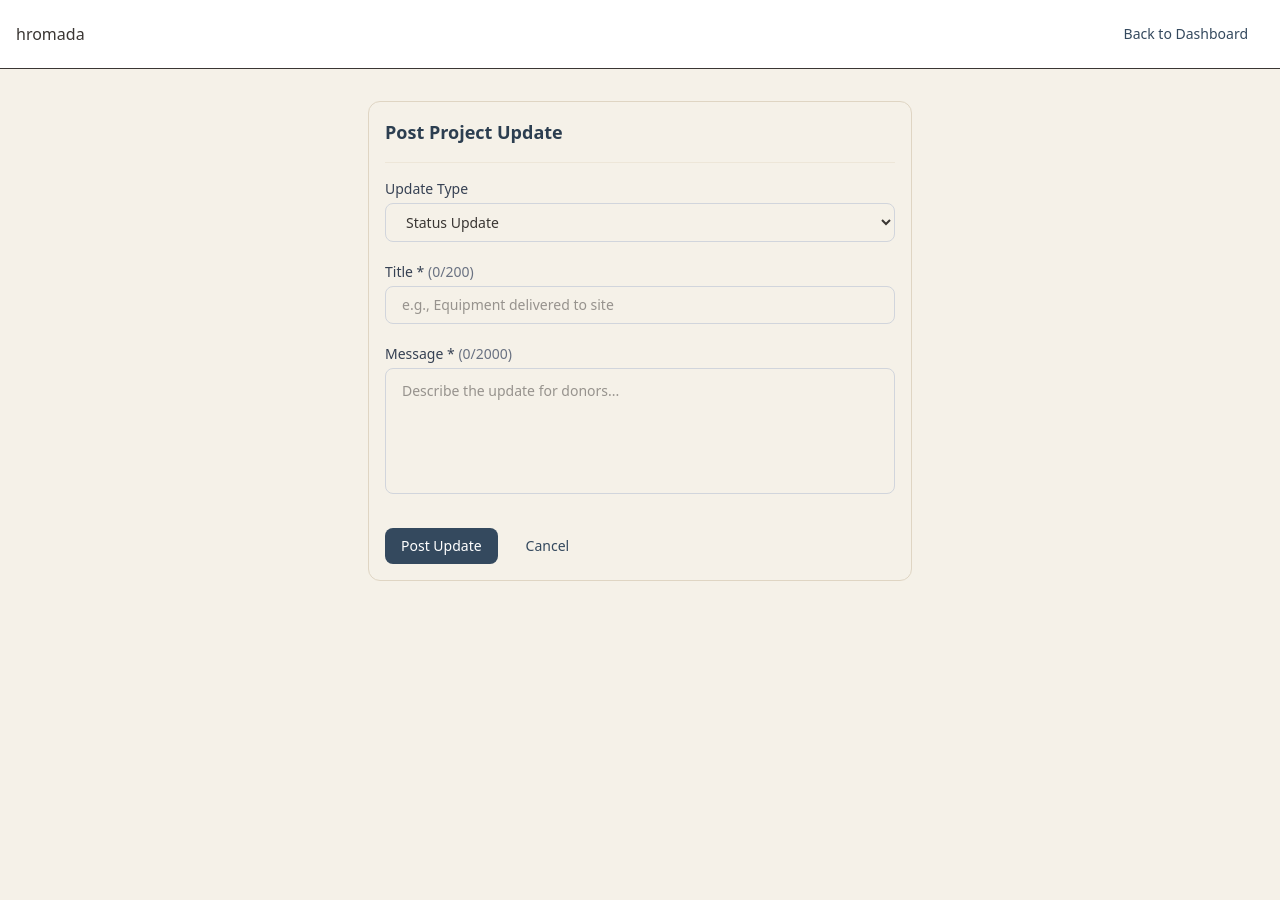
Scenario: PartnerPostUpdatePage › shows error when API submission fails
This screenshot has width=1280, height=900.
Expected: the button "Post Update" is shown, [385,528,498,564]
In the field with placeholder "e.g., Equipment delivered to site": [640, 305] box [385,286,895,324], type "Title"
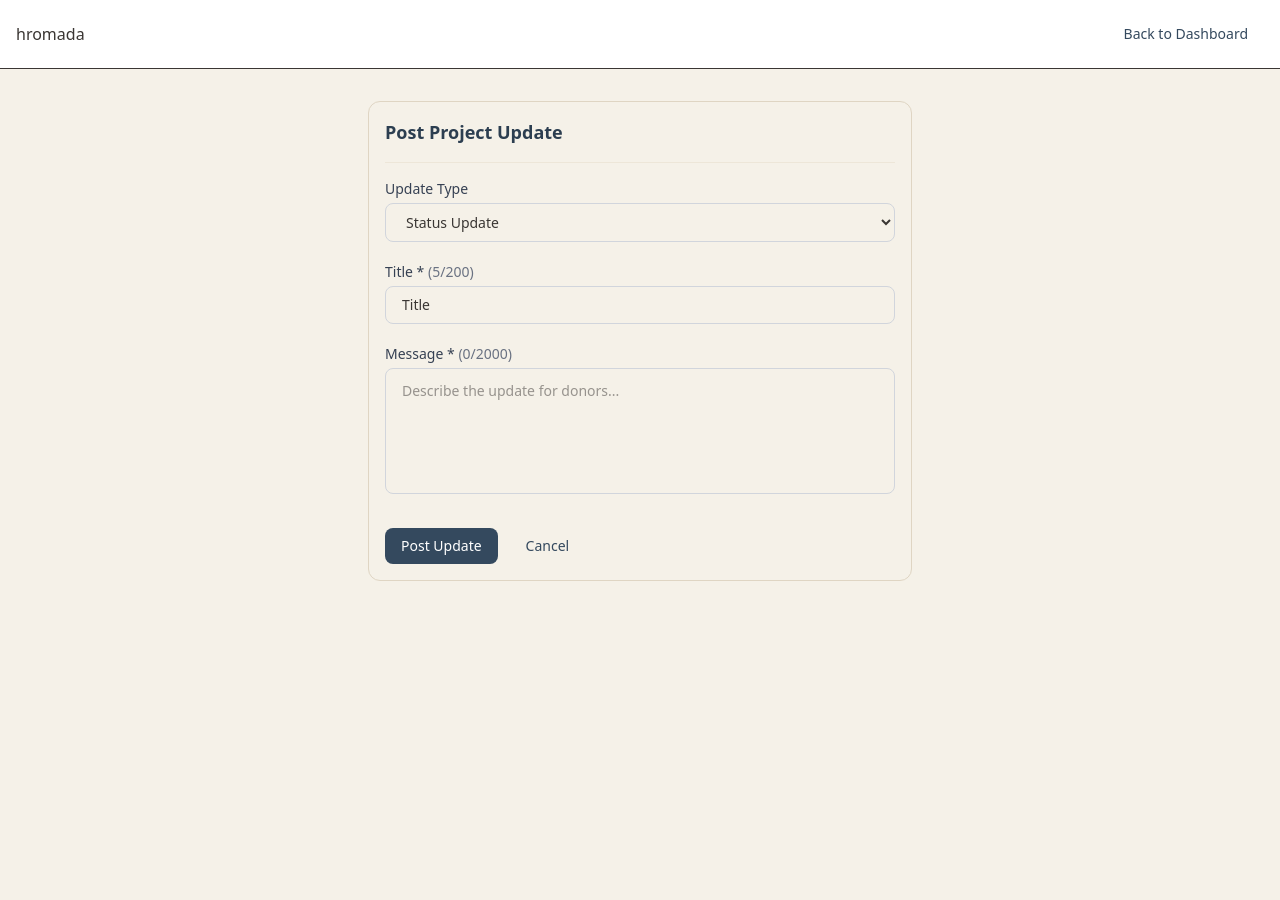
In the text box with placeholder "Describe the update for donors...": [640, 431] box [385,368,895,494], type "Message content"
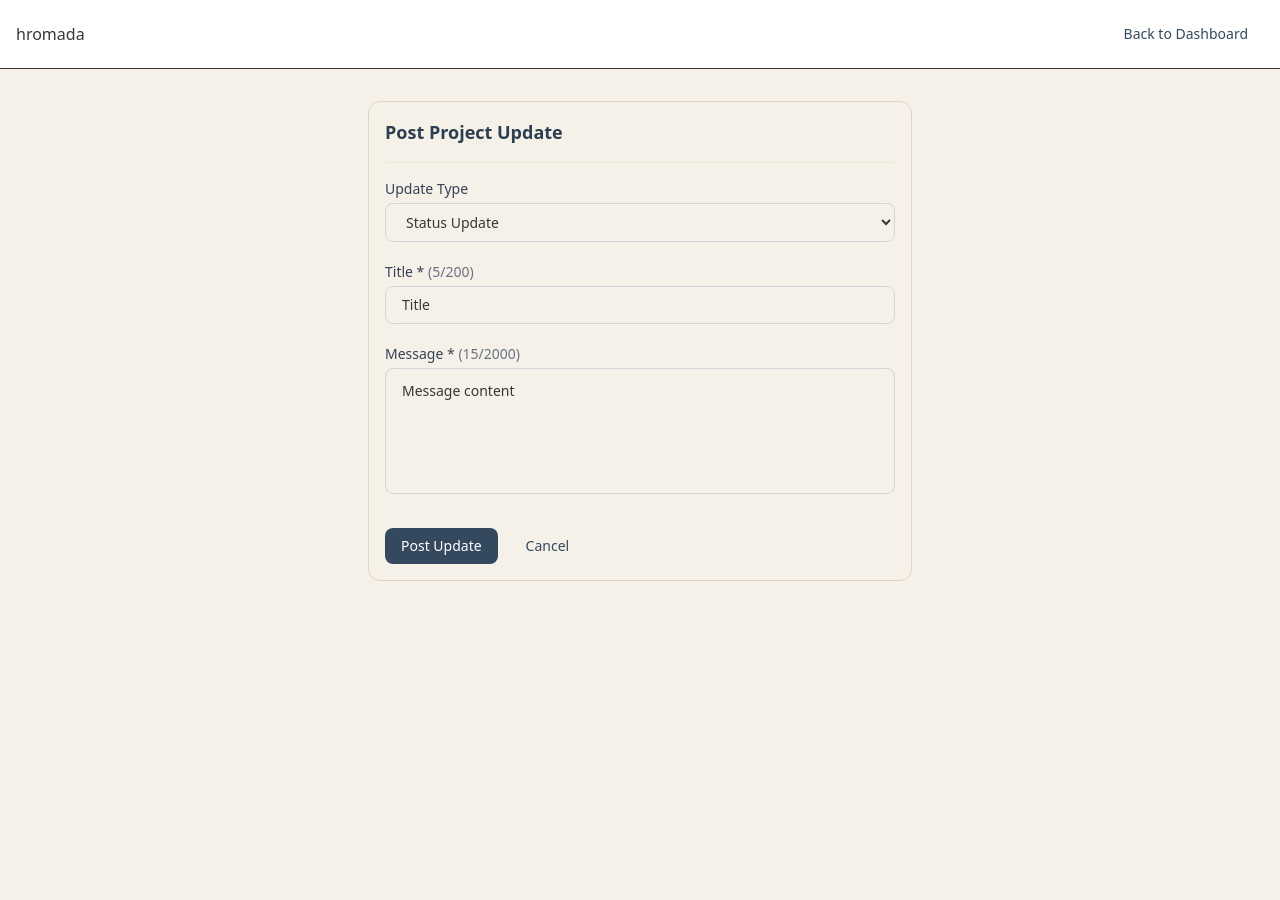
Click the button "Post Update": [441, 546] box [385,528,498,564]
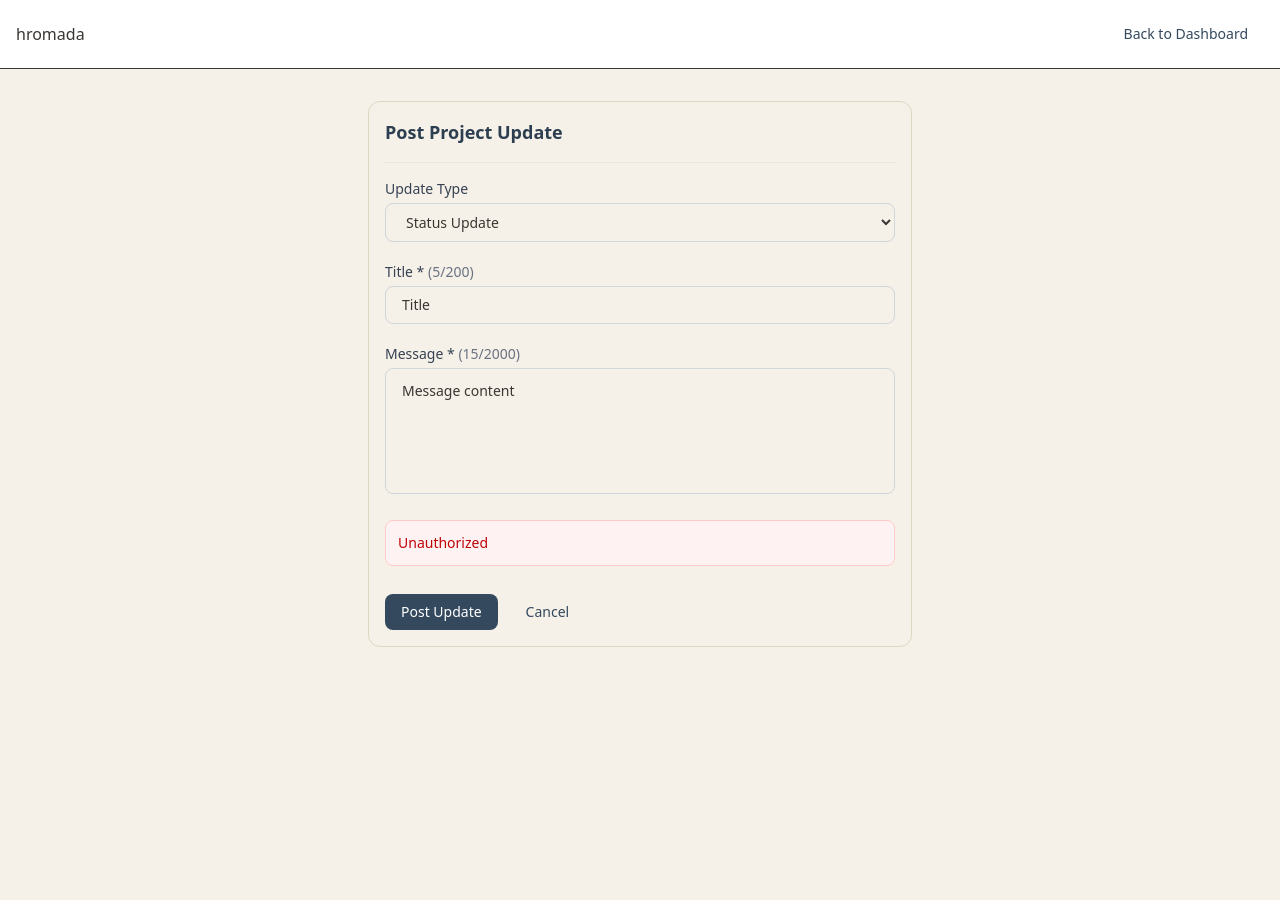
Now the text "Unauthorized" is shown, box [385,520,895,566]
